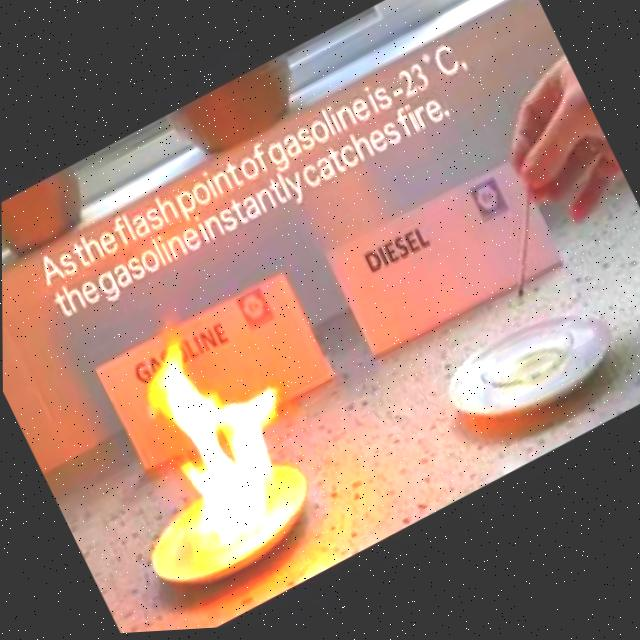Fire: (116, 287, 327, 551)
